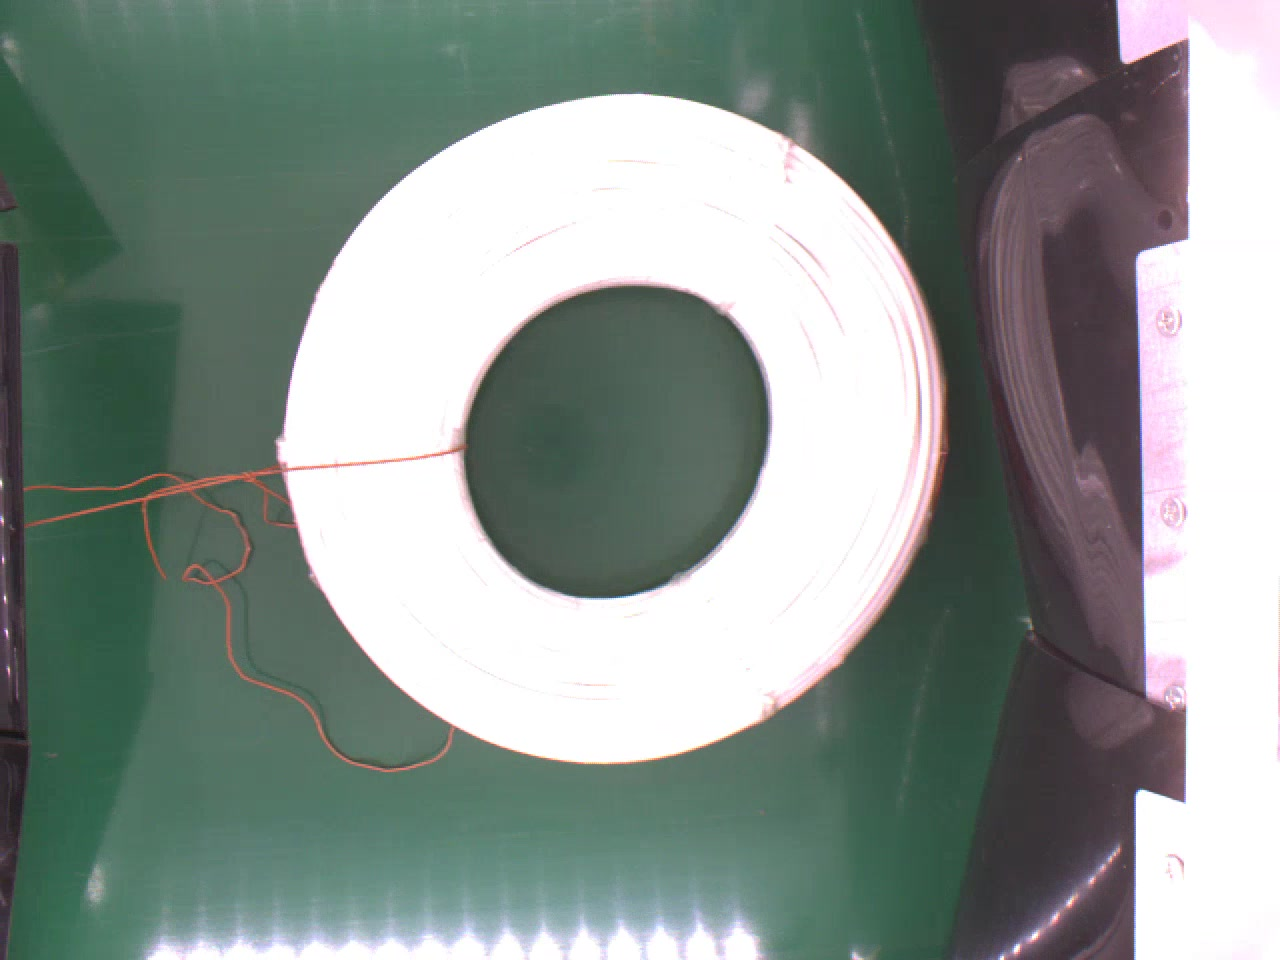white: (277, 89, 950, 768)
